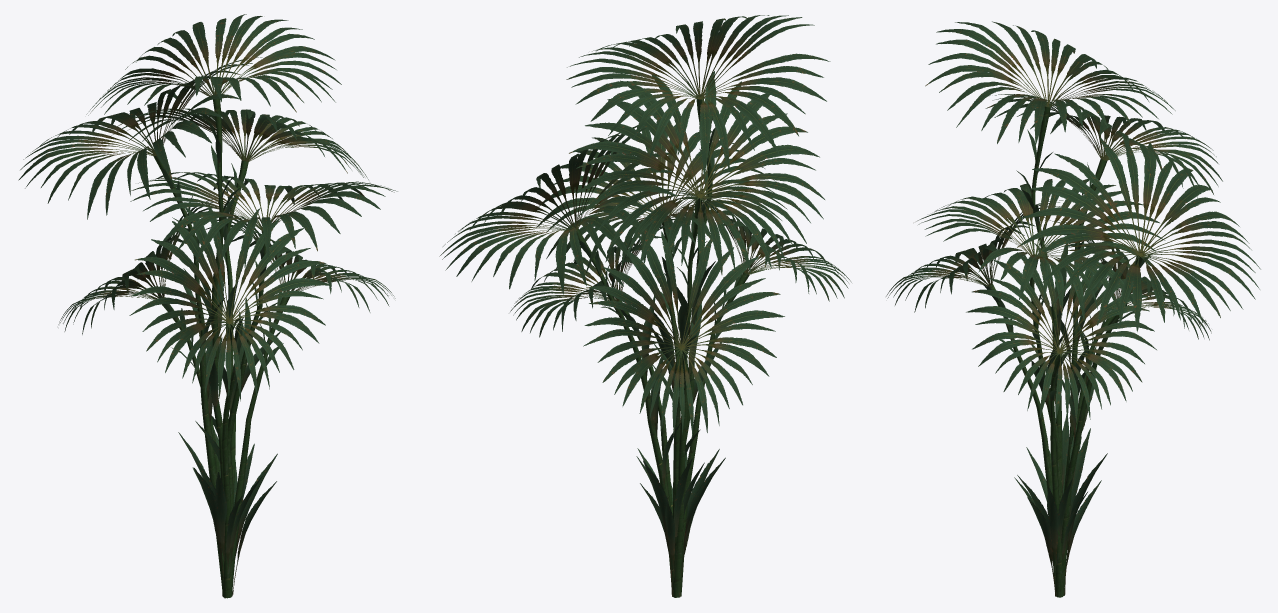
File: Plant1_2.fbx
3 views of the same model, side by side, from view 1: azimuth 30°, elevation 25°; view 2: azimuth 150°, elevation 25°; view 3: azimuth 270°, elevation 25° (orthographic). The views are drawn at different scales.
Parts seen in each view (by area): view 1: polySurface18; view 2: polySurface18; view 3: polySurface18.
Part boxes in pixels (x1,y1,x2,y2): polySurface18: [18, 14, 397, 598]; polySurface18: [439, 15, 851, 597]; polySurface18: [886, 21, 1260, 597].
Size of the model in its own units: 383 by 624 by 400.
